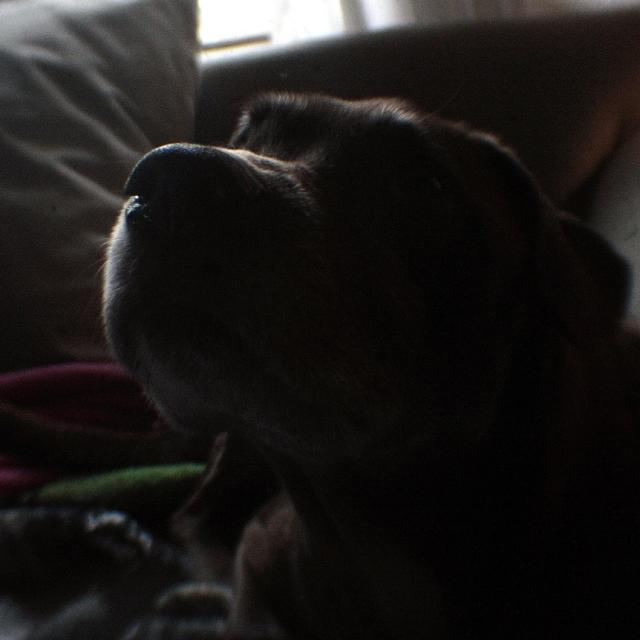Dog: (61, 79, 617, 610)
